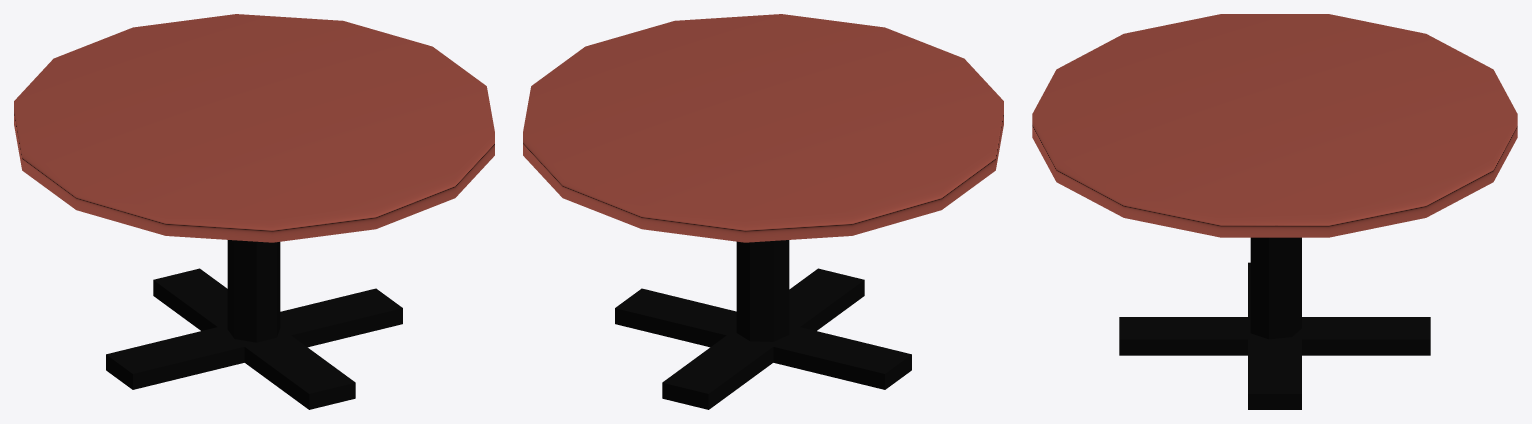
The model's file is Table.gltf.
The picture shows the model from 3 angles, left to right: view 1: azimuth 30°, elevation 25°; view 2: azimuth 150°, elevation 25°; view 3: azimuth 270°, elevation 25°; orthographic projection.
Parts seen in each view (by area): view 1: Cylinder.001, Cube.001, Cube, Cylinder; view 2: Cylinder.001, Cube.001, Cube, Cylinder; view 3: Cylinder.001, Cube, Cylinder, Cube.001.
Boxes of the visible parts, bbox=[...] form: Cylinder.001: bbox=[14, 14, 494, 242]; Cube.001: bbox=[106, 288, 402, 389]; Cube: bbox=[153, 268, 355, 409]; Cylinder: bbox=[227, 240, 280, 342]; Cylinder.001: bbox=[523, 14, 1003, 242]; Cube.001: bbox=[615, 288, 911, 389]; Cube: bbox=[662, 268, 864, 409]; Cylinder: bbox=[736, 240, 789, 341]; Cylinder.001: bbox=[1032, 14, 1517, 237]; Cube: bbox=[1119, 317, 1430, 355]; Cylinder: bbox=[1250, 237, 1301, 339]; Cube.001: bbox=[1248, 262, 1301, 409].
Bounding box in the file's own units: 0.7598 × 0.408 × 0.7793.
